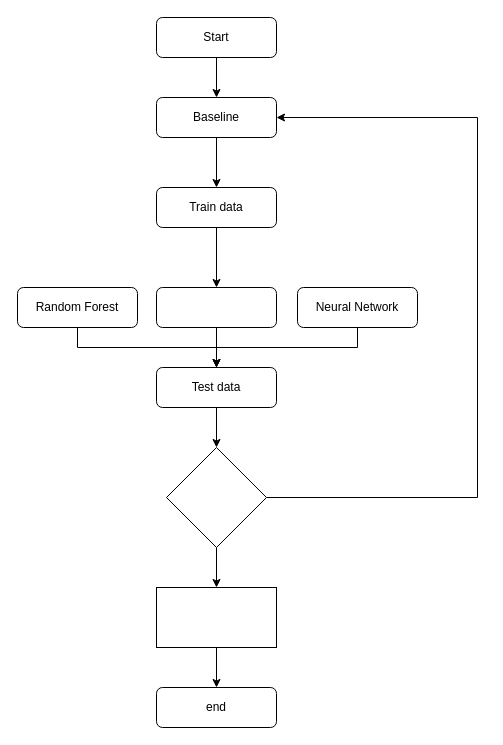
Image size: 503x745. Some labels were removed from this diagram. The shapes that lost their labels are listed below. From the top down, each one's centre as x and y in pixels, then its label:
point 216,307: KNN
point 216,497: R Square > Baseline
point 216,617: RMSE Paling kecil dari 3 model
